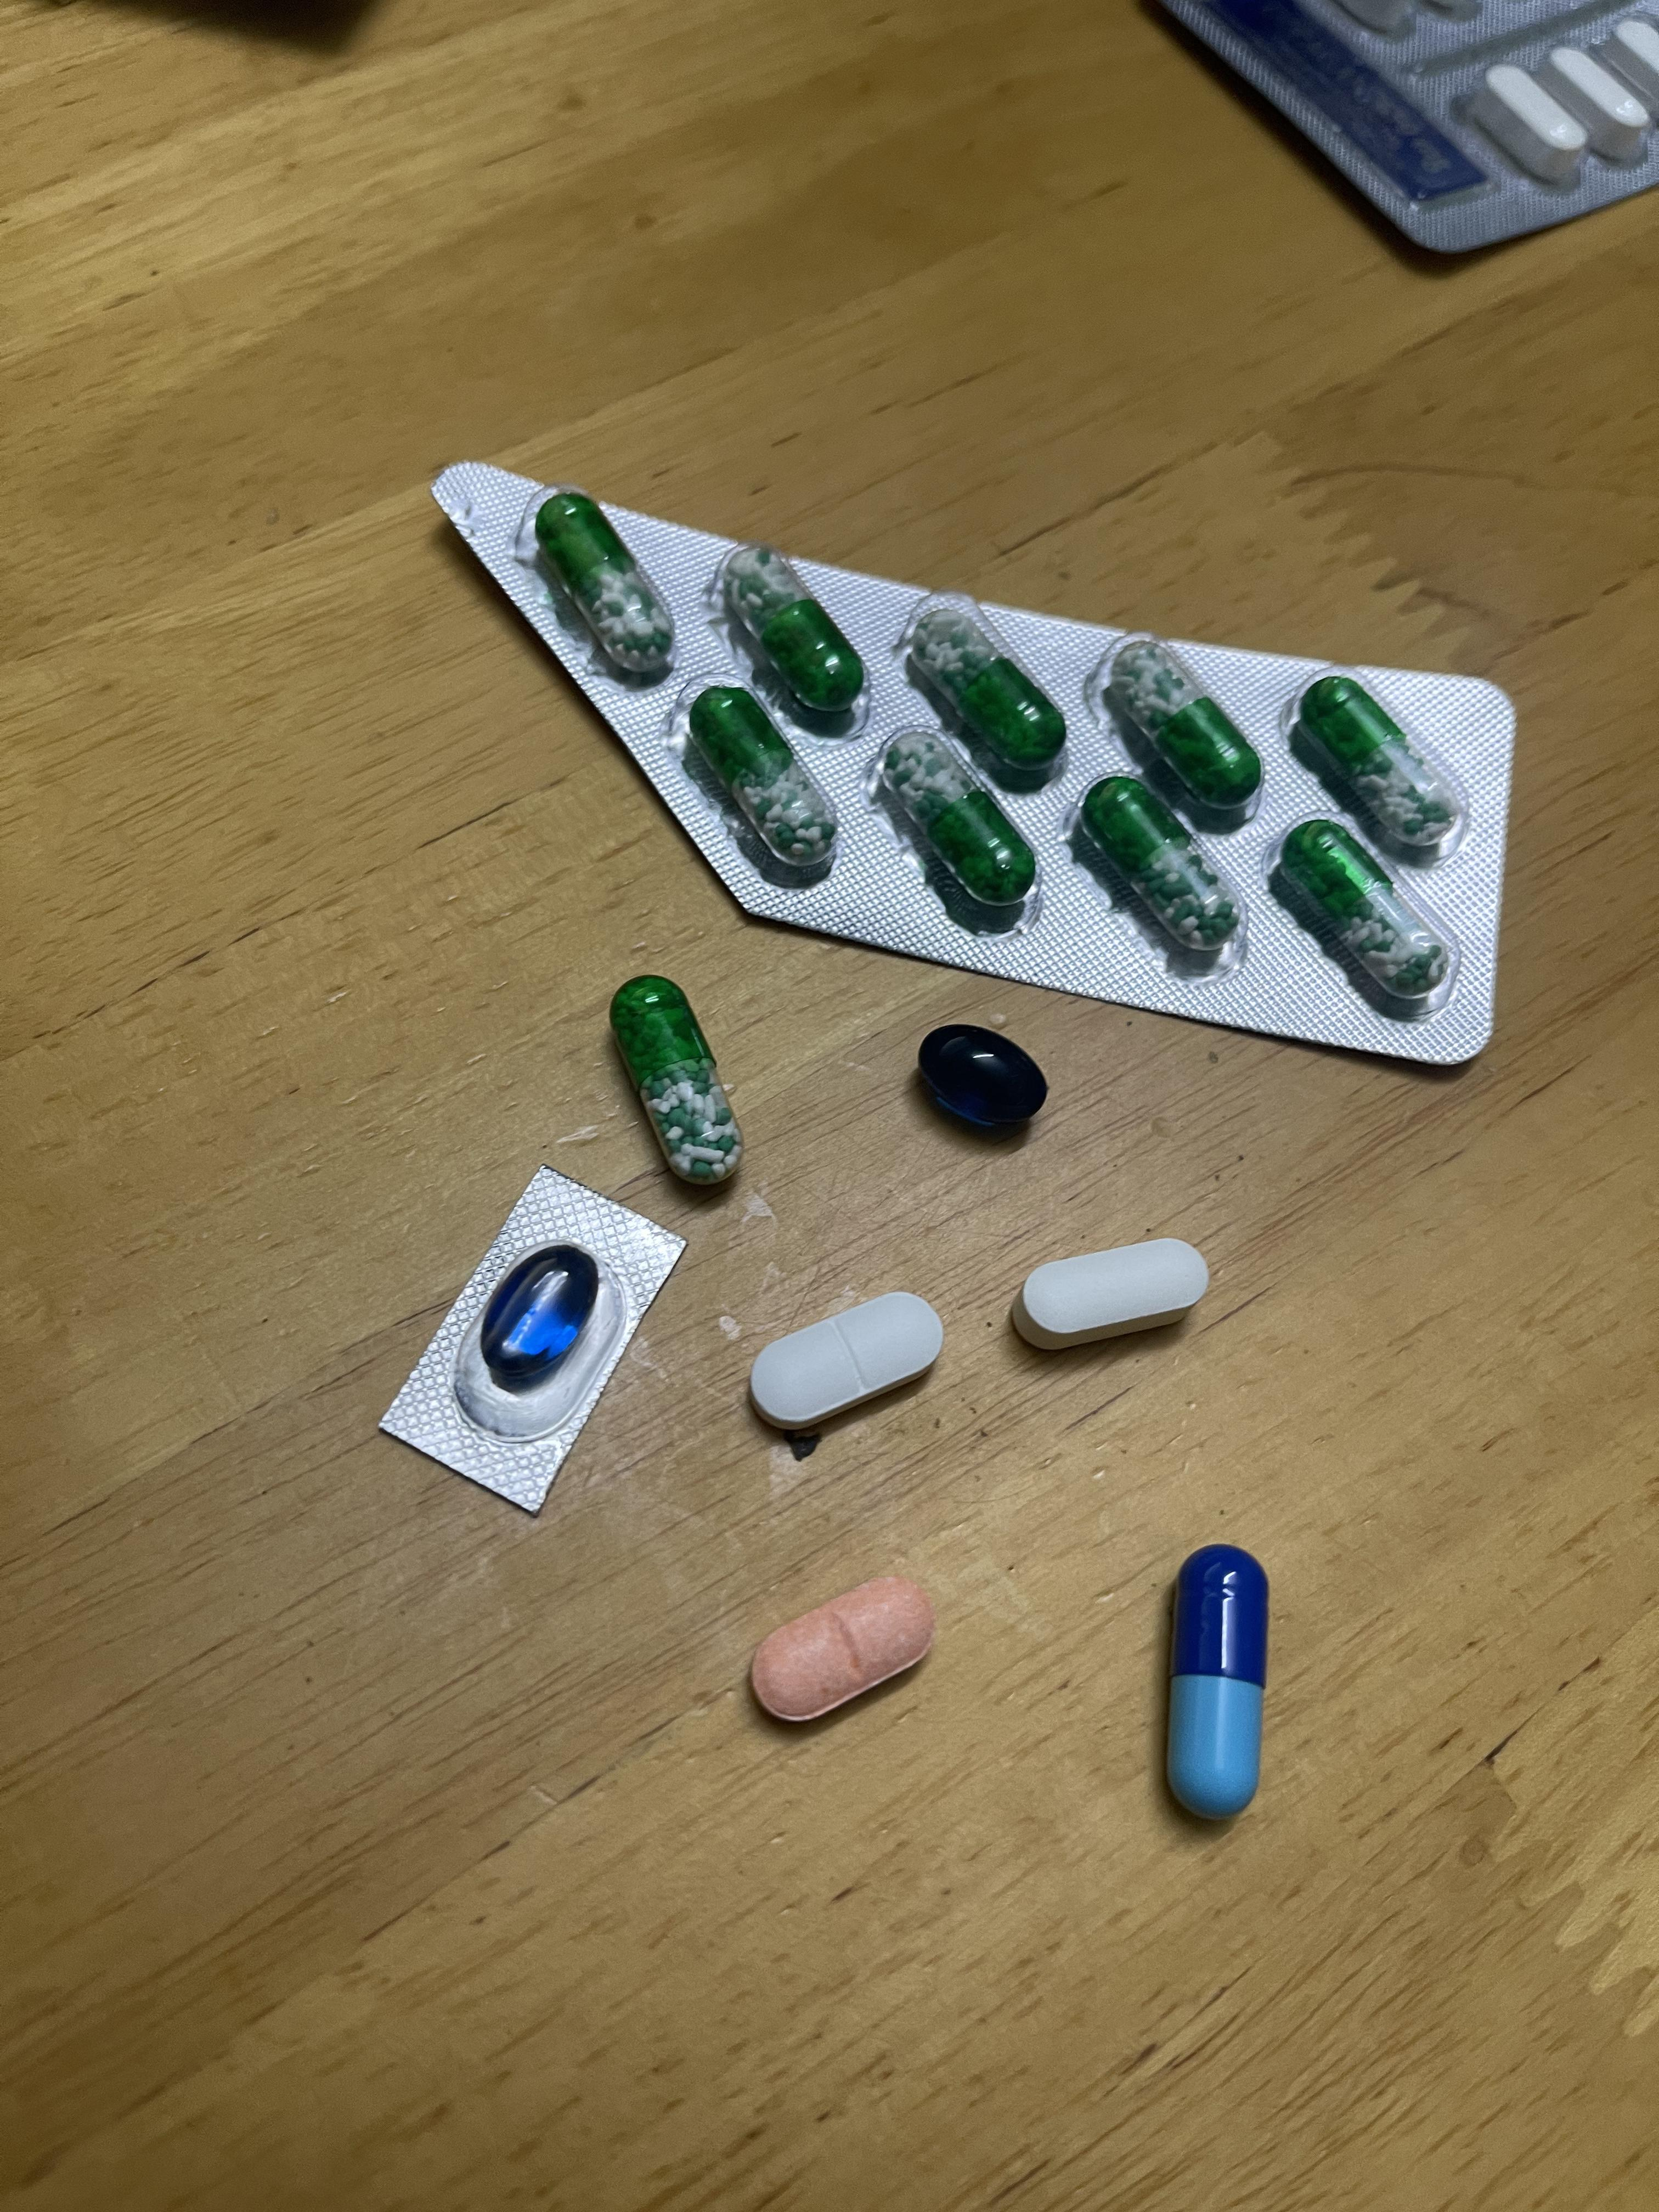Lincomyxin_500mg: (481, 1249, 598, 1379), (913, 1022, 1047, 1130)
Loratadine_10mg: (748, 1571, 939, 1726)
Paracetamol_350mg: (749, 1289, 948, 1435)
Paracetamol_500mg: (1019, 1238, 1201, 1341), (1481, 61, 1586, 165), (1551, 47, 1645, 129)
Paracetamol_650mg: (1269, 820, 1457, 1017), (873, 728, 1039, 921), (1293, 672, 1464, 855), (685, 683, 838, 874), (1080, 775, 1237, 956), (1101, 643, 1260, 813), (906, 610, 1065, 779), (615, 974, 741, 1186), (533, 495, 667, 681), (721, 549, 864, 716)
pill: (1169, 1552, 1267, 1808)
